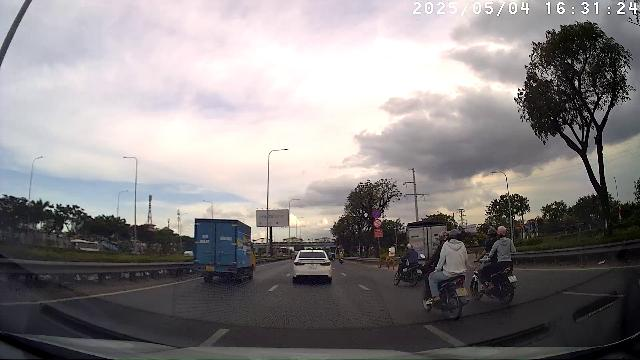130-cam-dung-va-do-xe: (372, 210, 380, 218)
